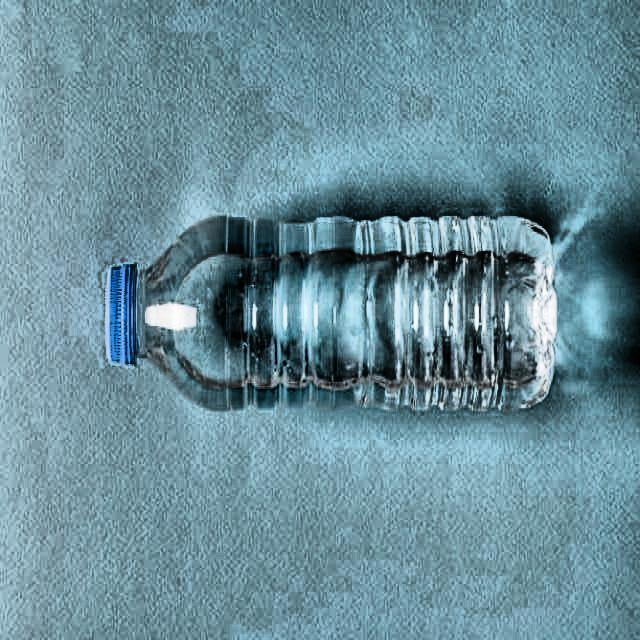plastic: (110, 216, 556, 410)
